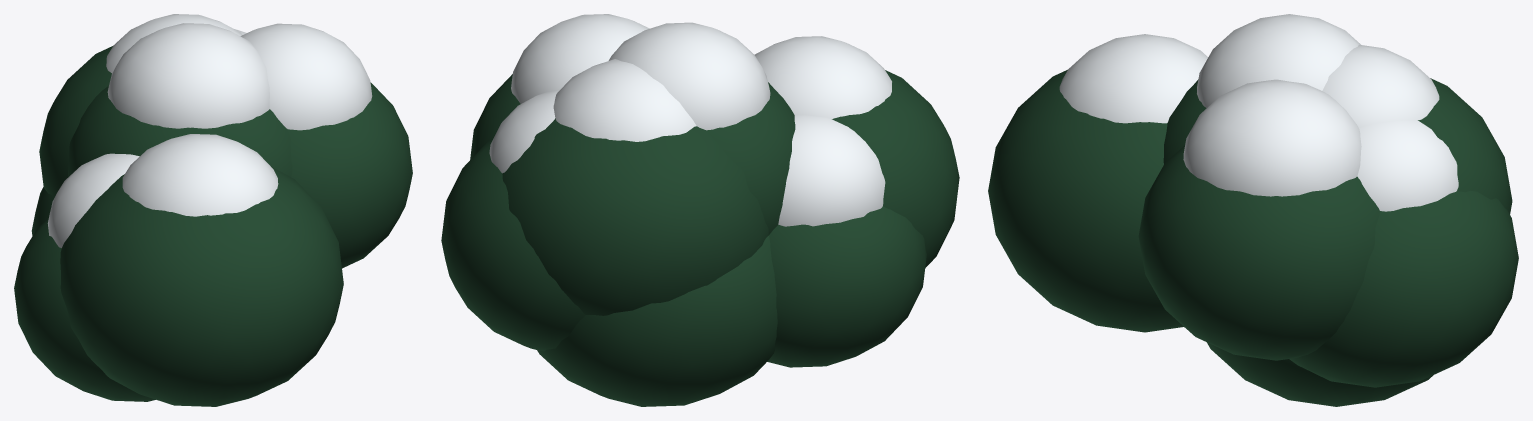
File: buisson_toundra_1.glb
The picture shows the model from 3 angles, left to right: view 1: azimuth 30°, elevation 25°; view 2: azimuth 150°, elevation 25°; view 3: azimuth 270°, elevation 25°; orthographic projection. The views are drawn at different scales.
Visible parts, largest first — view 1: arbuste_pin_sombre.002, arbuste_neige.002; view 2: arbuste_pin_sombre.002, arbuste_neige.002; view 3: arbuste_pin_sombre.002, arbuste_neige.002.
Part boxes in pixels (x1,y1,x2,y2): arbuste_pin_sombre.002: [14, 46, 412, 406]; arbuste_neige.002: [47, 14, 372, 247]; arbuste_pin_sombre.002: [441, 70, 959, 406]; arbuste_neige.002: [489, 14, 891, 226]; arbuste_pin_sombre.002: [988, 69, 1518, 406]; arbuste_neige.002: [1059, 14, 1458, 211].
Bounding box in the file's own units: 0.6207 × 0.5106 × 0.6725.
